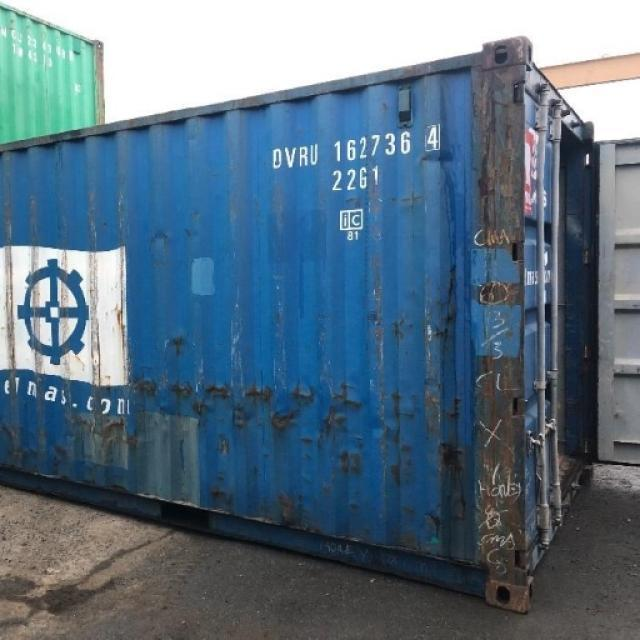ISO: (334, 168, 376, 194)
container_number: (271, 120, 443, 164)
